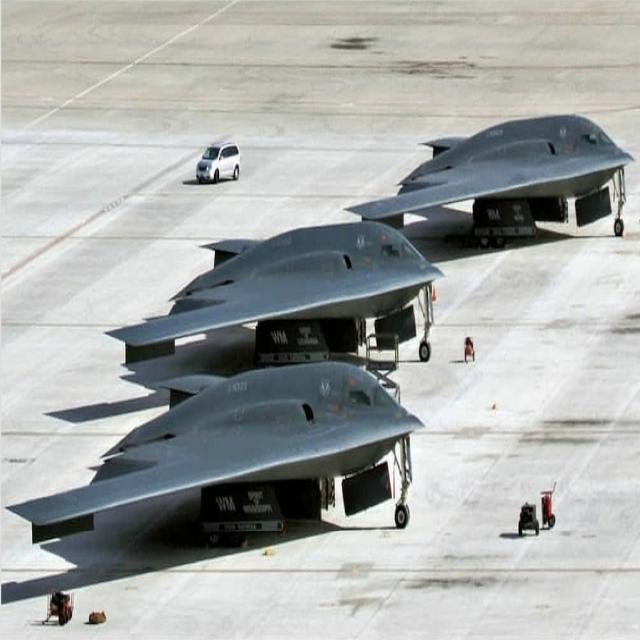MIL_Plane: (0, 362, 285, 545), (108, 220, 440, 364), (343, 114, 640, 248)
